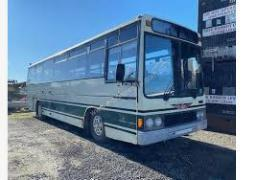bus: (28, 15, 205, 149)
